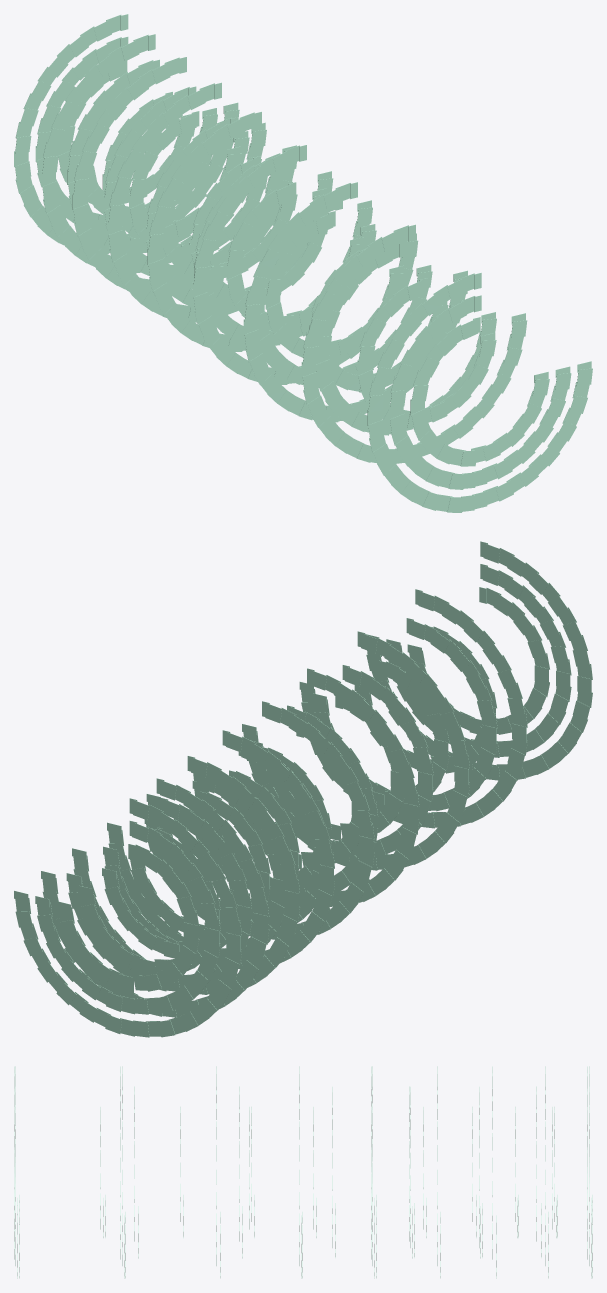
Rendered from ITK-Pixel-Layout-Outer-Endcap-SideA-cut3.glb.
3 views of the same model, one above another, from view 1: azimuth 30°, elevation 25°; view 2: azimuth 150°, elevation 25°; view 3: azimuth 270°, elevation 25° (orthographic). The views are drawn at different scales.
Visible parts, largest first — view 1: ITK_Pixel_Layout_Outer_Endcap_SideA Cut 3; view 2: ITK_Pixel_Layout_Outer_Endcap_SideA Cut 3; view 3: ITK_Pixel_Layout_Outer_Endcap_SideA Cut 3.
Boxes of the visible parts, left/top/right/bottom form: ITK_Pixel_Layout_Outer_Endcap_SideA Cut 3: left=14, top=14, right=592, bottom=512; ITK_Pixel_Layout_Outer_Endcap_SideA Cut 3: left=14, top=541, right=592, bottom=1037; ITK_Pixel_Layout_Outer_Endcap_SideA Cut 3: left=14, top=1066, right=592, bottom=1278.
Size of the model in its own units: 0.6311 by 0.6311 by 1.72.
